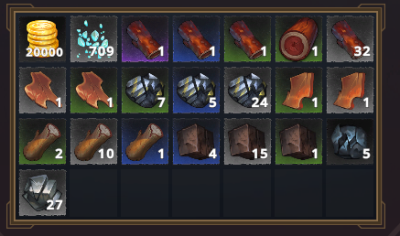ethereal dust: (70, 15, 117, 62)
gold: (17, 15, 65, 63)
silver ore: (19, 169, 66, 216)
slate stone: (224, 118, 271, 165), (174, 119, 220, 165), (276, 119, 321, 164)
spruce log: (18, 117, 65, 164), (70, 118, 117, 165), (122, 117, 169, 164)
strong hide: (275, 66, 323, 114), (326, 67, 373, 114)
tin ore: (122, 66, 169, 113), (223, 66, 270, 113), (173, 67, 219, 113)
tough hide: (70, 66, 117, 113), (19, 67, 65, 113)
yew heartwood: (276, 16, 322, 62)
yew log: (327, 15, 374, 62), (122, 16, 168, 62), (173, 16, 219, 62), (225, 16, 270, 61)
